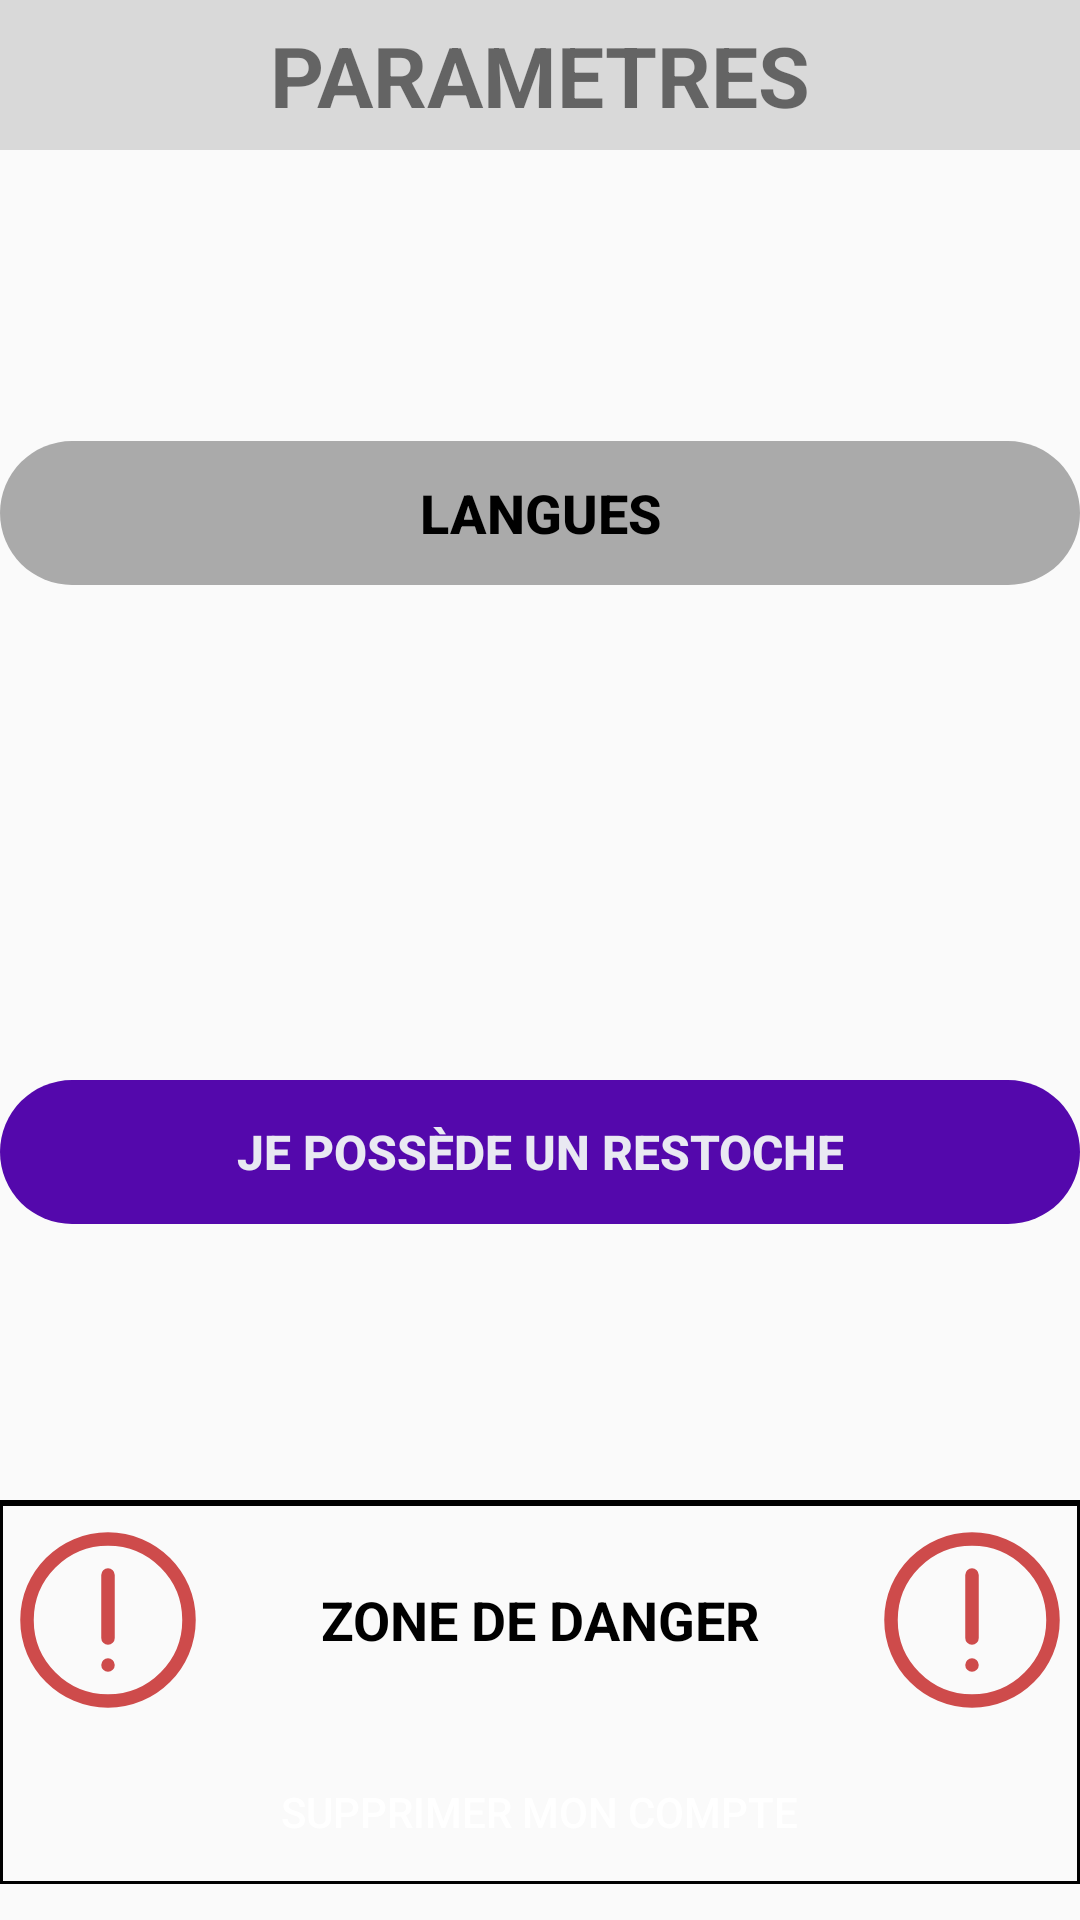

Icon bounding boxes for this 1080px×1920px phone screenshot, format (x1,y1,x2,y2):
warning: (20,1532,196,1708), (884,1532,1060,1708)
